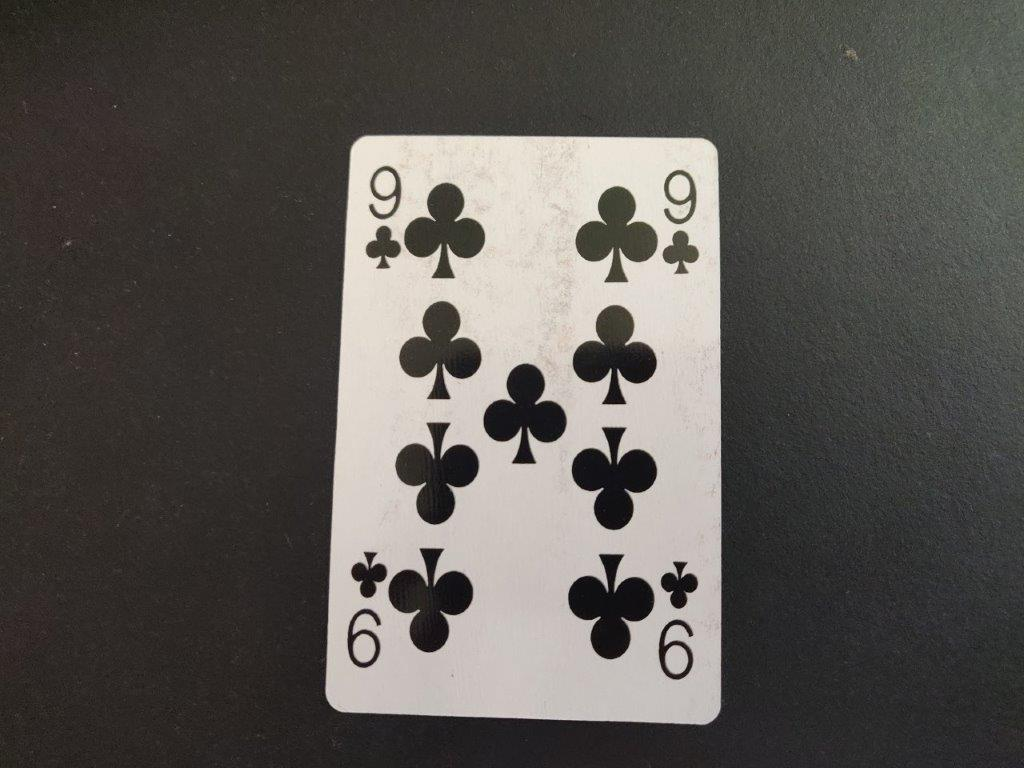9C: (358, 163, 404, 273), (660, 168, 701, 280)
